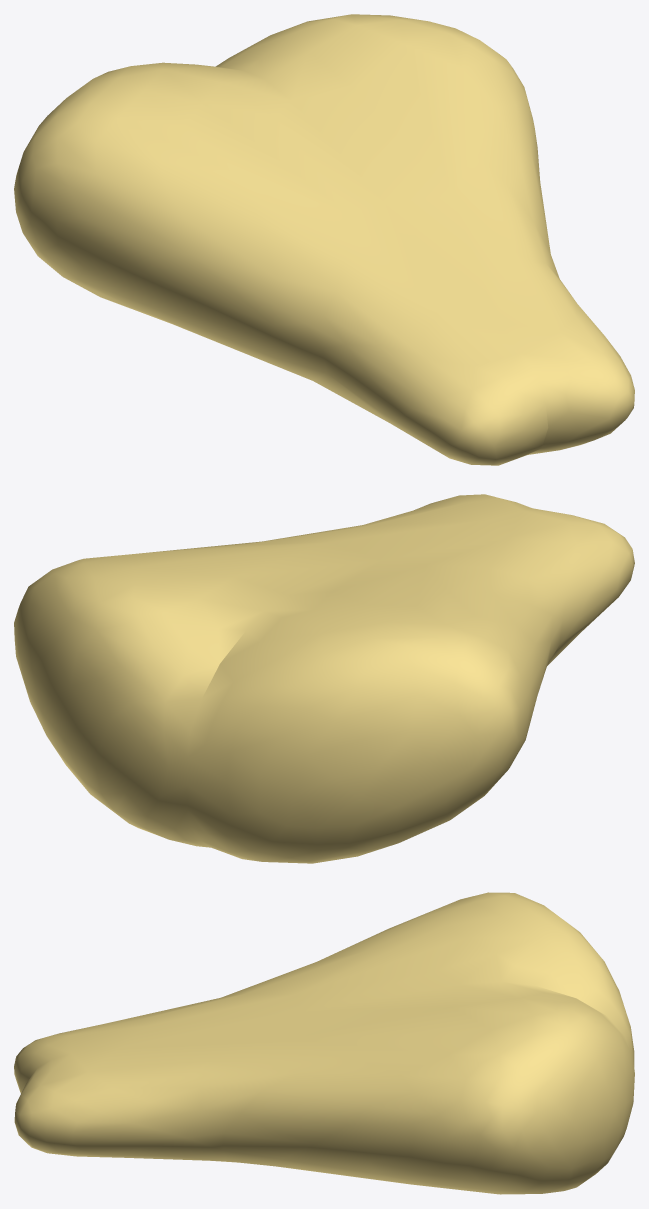
File: fma83889_mm3215.glb
3 views of the same model, one above another, from view 1: azimuth 30°, elevation 25°; view 2: azimuth 150°, elevation 25°; view 3: azimuth 270°, elevation 25° (orthographic). The views are drawn at different scales.
Parts seen in each view (by area): view 1: FMA83889_MM3215; view 2: FMA83889_MM3215; view 3: FMA83889_MM3215.
Part boxes in pixels (x1,y1,x2,y2): FMA83889_MM3215: (14, 14, 634, 465); FMA83889_MM3215: (14, 494, 634, 863); FMA83889_MM3215: (14, 892, 634, 1194).
Size of the model in its own units: 0.0132 by 0.00607 by 0.0172.
